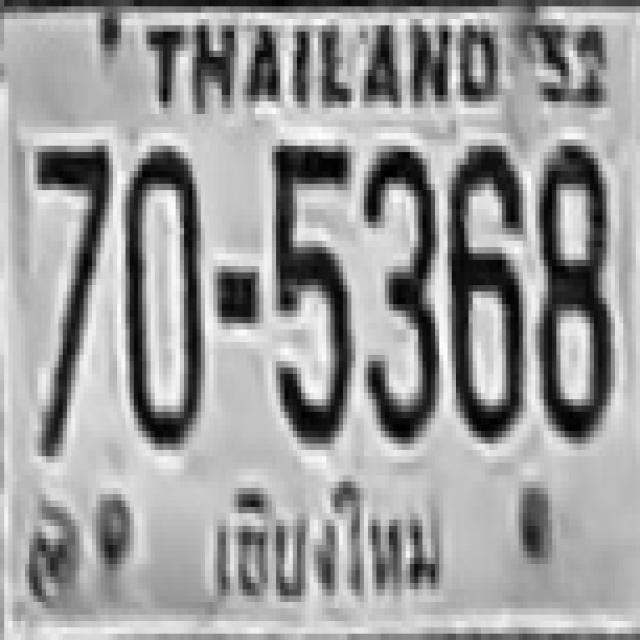0: (121, 142, 201, 440)
3: (362, 140, 438, 438)
5: (272, 141, 352, 439)
6: (451, 140, 522, 438)
7: (33, 139, 109, 450)
8: (538, 140, 609, 438)
CMI: (197, 472, 452, 612)
